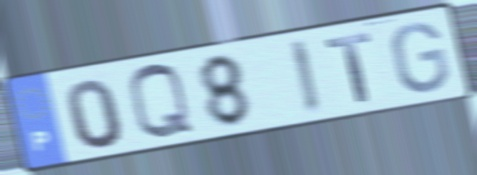0: (62, 74, 127, 152)
8: (196, 51, 255, 130)
G: (389, 20, 453, 95)
I: (285, 36, 326, 119)
Q: (124, 61, 199, 143)
T: (322, 30, 374, 106)
